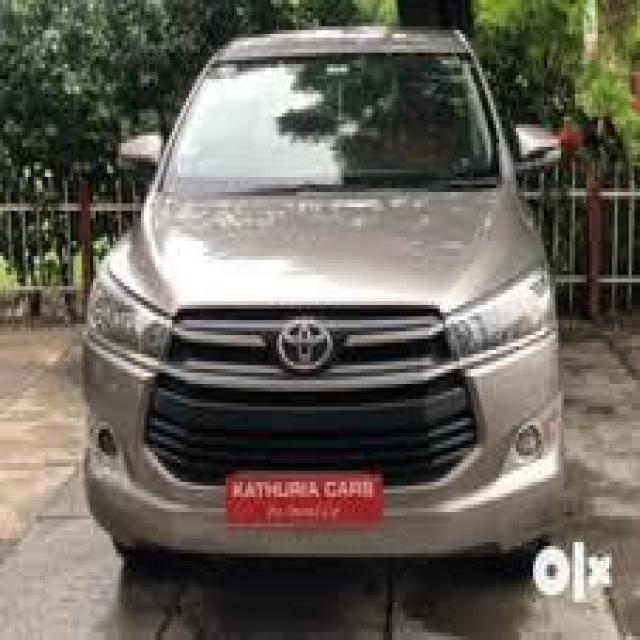light_vehicle: (86, 26, 564, 554)
